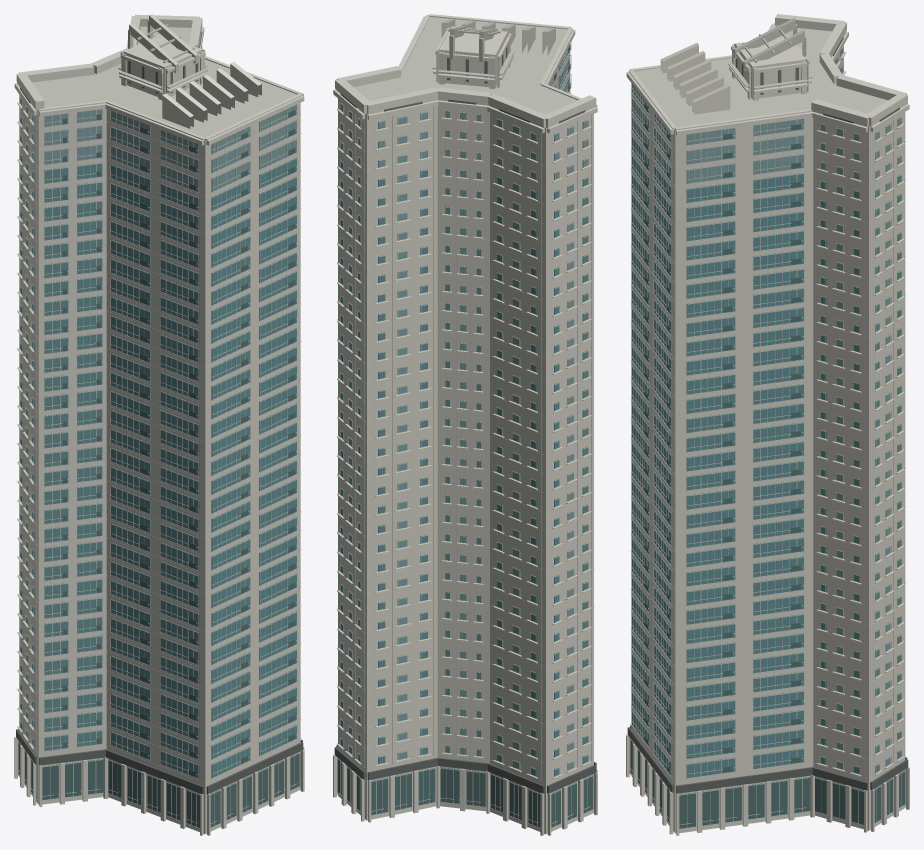
Rendered from bespoke-mokdong-hyperion-2-201.glb.
3 views of the same model, side by side, from view 1: azimuth 30°, elevation 25°; view 2: azimuth 150°, elevation 25°; view 3: azimuth 270°, elevation 25° (orthographic).
Parts seen in each view (by area): view 1: 201_face_specific_windows003_1, 201_sourceplate_stone, 201_face_specific_windows003_3, 201_face_specific_windows003_2, 201_crown_sloping_blades_and_stone_gallery003, 201_face_specific_windows003_6, 201_face_specific_windows003, 201_crown_sloping_blades_and_stone_gallery003_1, 201_face_specific_windows003_5, 201_face_specific_windows003_4; view 2: 201_sourceplate_stone, 201_face_specific_windows003, 201_face_specific_windows003_3, 201_face_specific_windows003_1, 201_face_specific_windows003_5, 201_face_specific_windows003_6, 201_crown_sloping_blades_and_stone_gallery003, 201_crown_sloping_blades_and_stone_gallery003_1, 201_face_specific_windows003_2, 201_face_specific_windows003_4, 201_crown_sloping_blades_and_stone_gallery003_2; view 3: 201_sourceplate_stone, 201_face_specific_windows003_1, 201_face_specific_windows003_3, 201_face_specific_windows003, 201_face_specific_windows003_2, 201_crown_sloping_blades_and_stone_gallery003, 201_face_specific_windows003_6, 201_crown_sloping_blades_and_stone_gallery003_1, 201_face_specific_windows003_5, 201_face_specific_windows003_4.
Boxes of the visible parts, x1,y1,x2,y2 form: 201_face_specific_windows003_1: [20, 153, 296, 778]; 201_sourceplate_stone: [19, 95, 300, 834]; 201_face_specific_windows003_3: [18, 96, 300, 828]; 201_face_specific_windows003_2: [18, 109, 299, 827]; 201_crown_sloping_blades_and_stone_gallery003: [16, 14, 302, 140]; 201_face_specific_windows003_6: [20, 97, 296, 738]; 201_face_specific_windows003: [14, 27, 304, 835]; 201_crown_sloping_blades_and_stone_gallery003_1: [32, 14, 296, 140]; 201_face_specific_windows003_5: [18, 96, 301, 783]; 201_face_specific_windows003_4: [16, 729, 303, 794]; 201_sourceplate_stone: [338, 51, 593, 834]; 201_face_specific_windows003: [333, 16, 597, 835]; 201_face_specific_windows003_3: [337, 42, 593, 828]; 201_face_specific_windows003_1: [340, 93, 587, 776]; 201_face_specific_windows003_5: [337, 73, 594, 781]; 201_face_specific_windows003_6: [340, 44, 587, 770]; 201_crown_sloping_blades_and_stone_gallery003: [335, 14, 596, 127]; 201_crown_sloping_blades_and_stone_gallery003_1: [354, 17, 577, 128]; 201_face_specific_windows003_2: [337, 44, 592, 827]; 201_face_specific_windows003_4: [334, 745, 596, 793]; 201_crown_sloping_blades_and_stone_gallery003_2: [340, 46, 585, 123]; 201_sourceplate_stone: [631, 45, 905, 833]; 201_face_specific_windows003_1: [632, 135, 901, 777]; 201_face_specific_windows003_3: [630, 46, 905, 829]; 201_face_specific_windows003: [626, 24, 909, 835]; 201_face_specific_windows003_2: [630, 103, 904, 828]; 201_crown_sloping_blades_and_stone_gallery003: [628, 14, 907, 130]; 201_face_specific_windows003_6: [632, 48, 901, 769]; 201_crown_sloping_blades_and_stone_gallery003_1: [634, 17, 887, 130]; 201_face_specific_windows003_5: [630, 51, 905, 781]; 201_face_specific_windows003_4: [627, 725, 908, 793].
Size of the model in its own units: 37.89 by 123 by 41.53.
